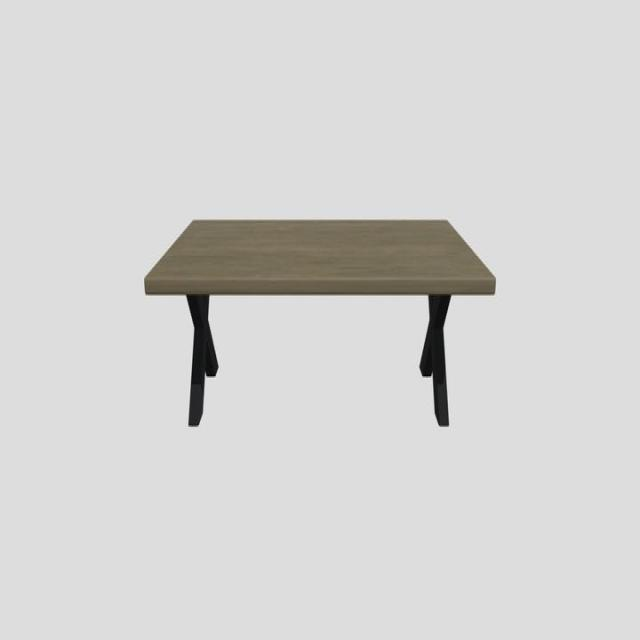table: (145, 216, 495, 428)
